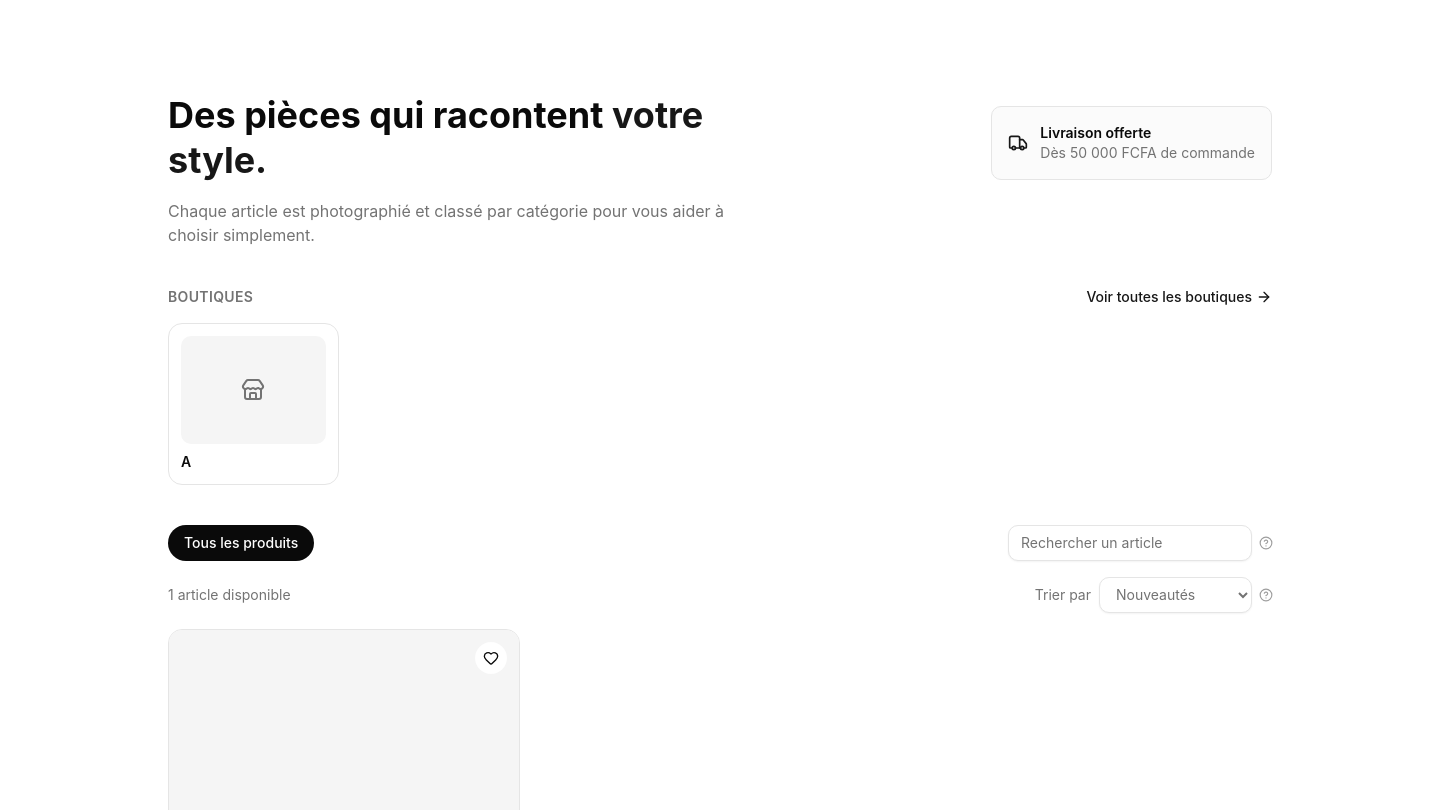
MarketCataloguePageContent › shows a dedicated message when a search matches nothing
In the field labelled "Rechercher un article": (1130, 543) [1008,525,1252,561], type "introuvable"
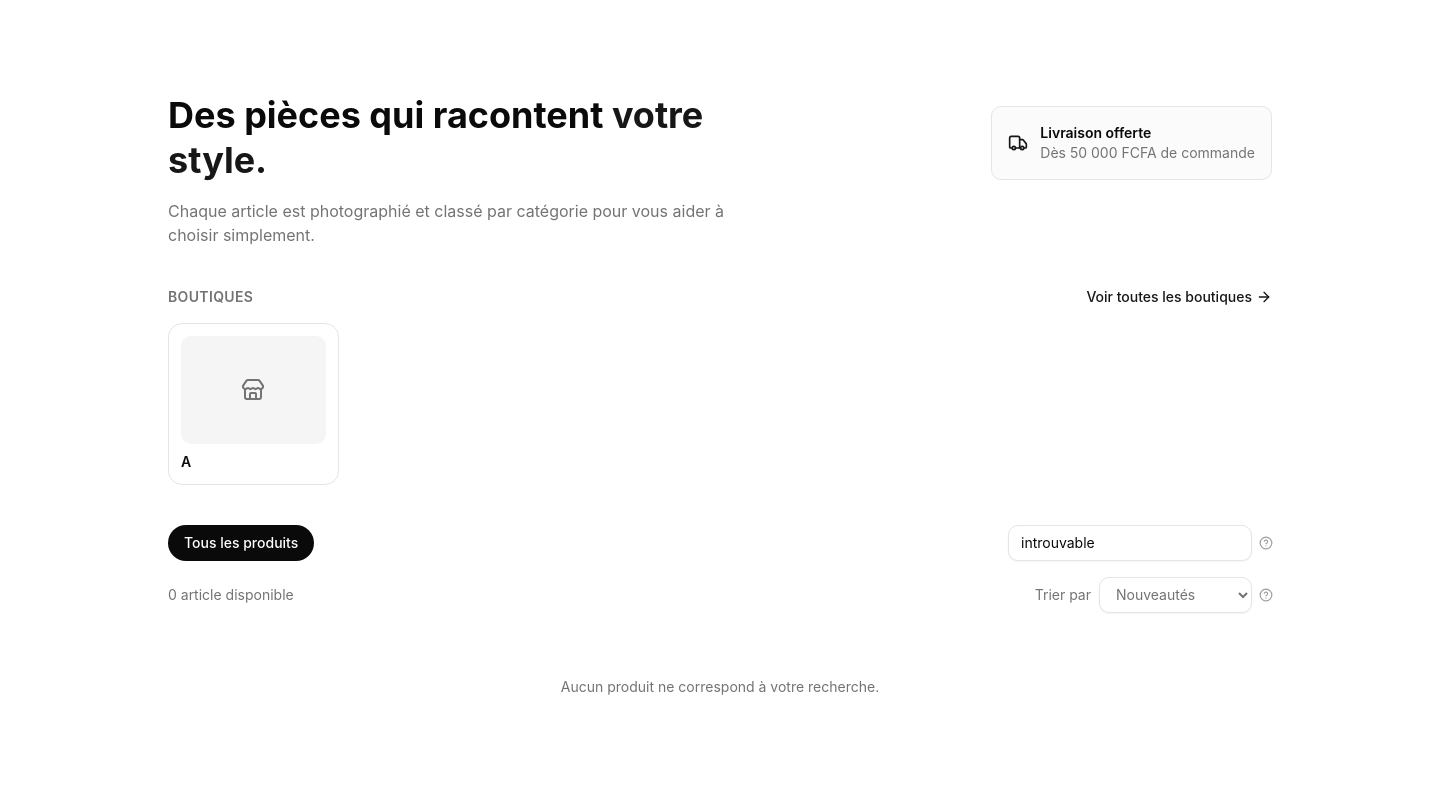
Check: the text "Aucun produit ne correspond à votre recherche." is shown, box [561,678,879,695]
